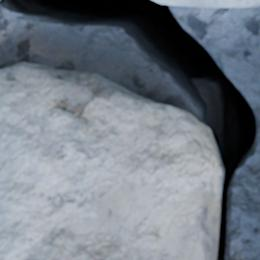brick: (0, 62, 222, 259)
broken_brick: (157, 0, 259, 8)
crack: (0, 0, 258, 259)
